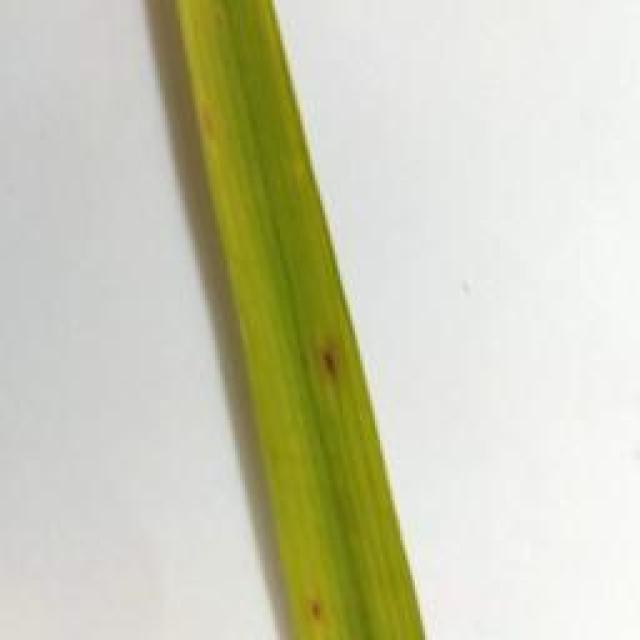Brown_Spot: (302, 326, 356, 404), (298, 586, 333, 633)
